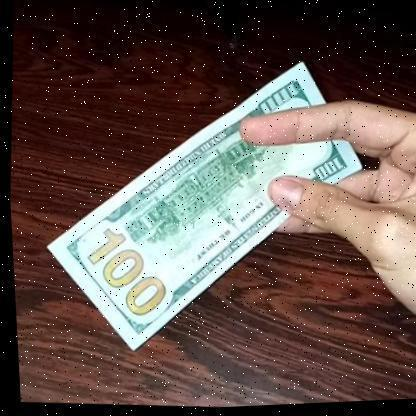dollar_back: (26, 38, 377, 374)
